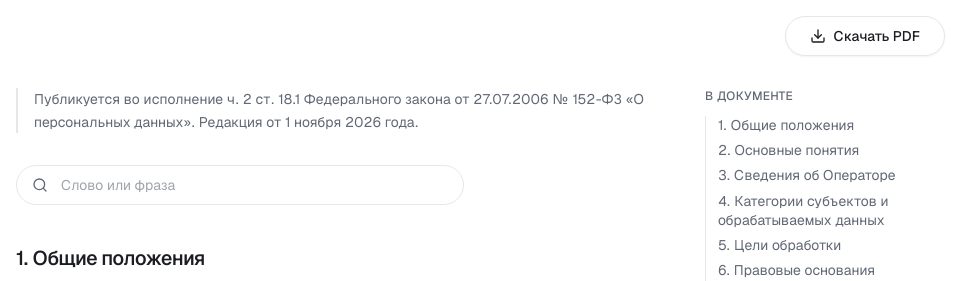
Test case: LegalScreen — поиск по документу › когда не нашлось, объясняем почему, а не молчим
The width and height of the screenshot is (962, 281).
In the search field: {"x": 240, "y": 186} [16,166,464,206], type "щщщщ"
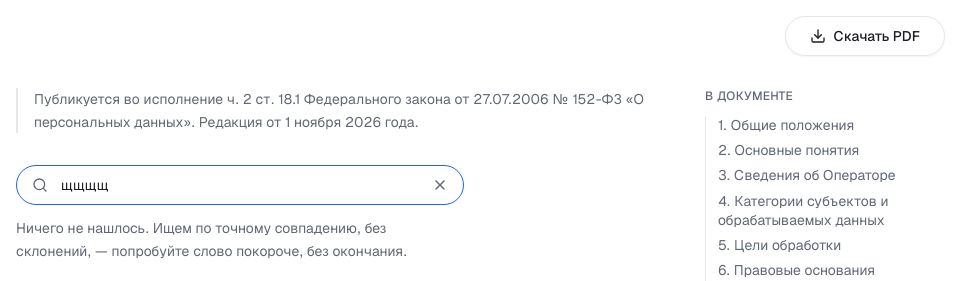
Check: the text "точному совпадению" is shown, box [16,220,407,260]
